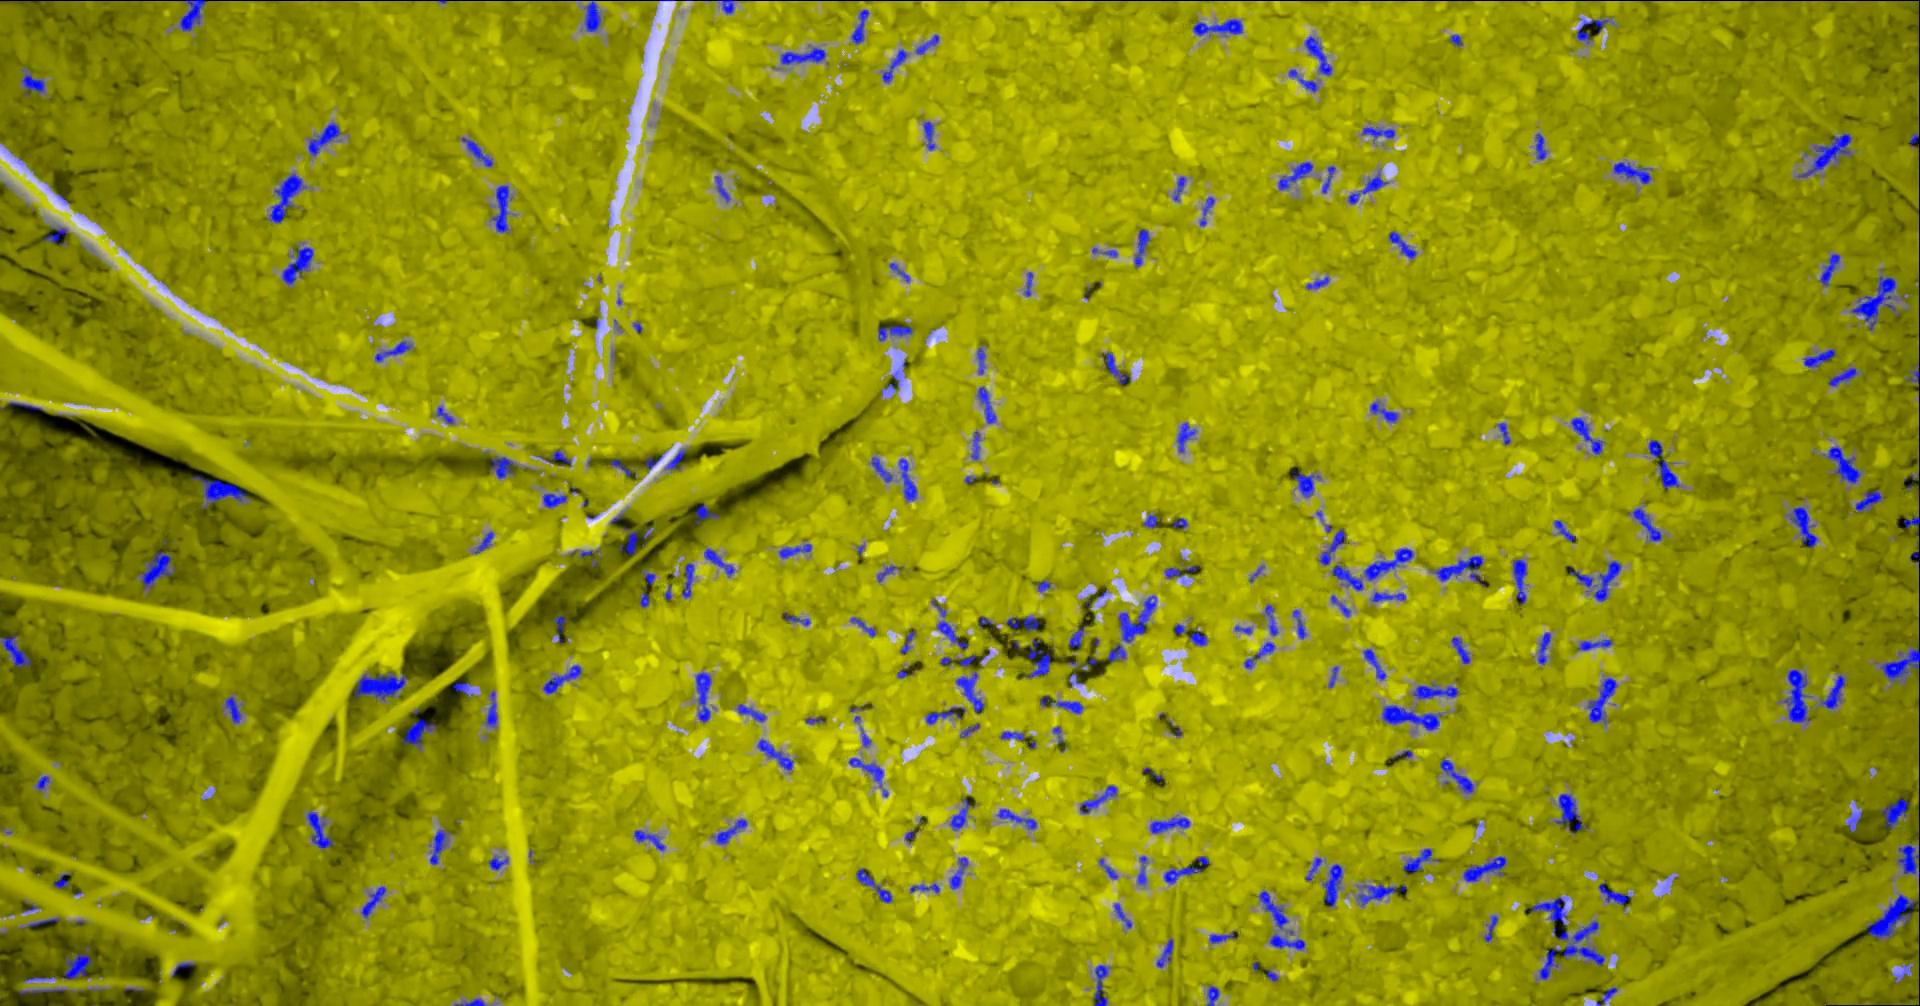ant: (1540, 920, 1606, 979), (1851, 276, 1901, 330), (1799, 132, 1853, 177), (1868, 893, 1920, 937), (270, 173, 307, 224), (193, 475, 249, 508), (1120, 594, 1158, 641), (933, 600, 970, 648), (1432, 555, 1487, 586), (1365, 547, 1415, 580), (1650, 439, 1681, 490), (356, 671, 409, 700), (1383, 705, 1443, 730), (1882, 641, 1920, 681), (1823, 445, 1862, 483), (141, 549, 177, 589), (1785, 669, 1812, 721), (1589, 677, 1618, 724), (1349, 171, 1389, 203), (1572, 417, 1606, 453), (1164, 856, 1210, 883), (858, 868, 894, 902), (1556, 793, 1589, 829), (283, 246, 315, 285), (1441, 758, 1476, 793), (1790, 506, 1818, 547), (1526, 895, 1568, 923), (1260, 890, 1290, 929), (543, 664, 583, 694), (1595, 560, 1623, 601), (957, 671, 985, 711), (1305, 36, 1333, 75), (1465, 856, 1509, 882), (1357, 883, 1408, 904), (309, 122, 342, 155), (759, 739, 795, 770), (1, 633, 33, 666), (404, 718, 437, 749), (850, 757, 884, 788), (1081, 785, 1117, 813), (309, 810, 335, 848), (1279, 161, 1314, 189), (1634, 507, 1663, 540), (1882, 796, 1911, 829), (63, 946, 93, 979), (493, 185, 513, 232), (1027, 638, 1051, 677), (1321, 528, 1347, 564), (1194, 18, 1244, 36), (712, 818, 748, 843), (463, 137, 494, 166), (1291, 467, 1322, 497), (705, 547, 737, 575), (182, 0, 210, 30), (998, 808, 1037, 829), (1898, 837, 1920, 876), (1244, 641, 1276, 668), (883, 50, 908, 83), (1106, 351, 1131, 384), (1822, 674, 1848, 708), (951, 796, 977, 829), (1324, 862, 1343, 906), (1615, 161, 1652, 183), (430, 829, 453, 864), (1390, 230, 1418, 258), (1041, 695, 1084, 713), (1578, 19, 1610, 43), (1333, 565, 1365, 589), (697, 672, 712, 721), (376, 340, 413, 361), (900, 459, 918, 500), (363, 887, 387, 917), (782, 47, 827, 64), (1600, 882, 1632, 904), (1404, 848, 1432, 874), (979, 386, 998, 423), (927, 706, 966, 724), (1415, 683, 1460, 699), (1365, 648, 1387, 680), (1150, 817, 1191, 833), (1095, 964, 1111, 1005), (1290, 69, 1319, 91), (1821, 253, 1841, 285), (1570, 565, 1595, 591), (635, 829, 667, 850), (1514, 559, 1528, 605), (489, 456, 518, 478), (1804, 348, 1837, 367), (1371, 400, 1399, 422), (1857, 489, 1884, 511), (641, 568, 657, 607), (1178, 422, 1197, 452), (695, 503, 721, 525), (853, 9, 870, 43), (951, 856, 969, 888), (1830, 367, 1859, 386), (739, 702, 768, 721), (872, 456, 894, 481), (879, 325, 914, 340), (1137, 227, 1150, 265), (621, 526, 640, 554), (23, 72, 46, 95), (1271, 934, 1305, 949), (585, 0, 602, 30), (780, 542, 813, 558), (1008, 616, 1040, 631), (852, 617, 877, 636), (1158, 937, 1175, 967), (1453, 636, 1470, 663), (226, 696, 244, 723), (917, 34, 940, 55), (44, 227, 70, 245), (612, 459, 637, 476), (1115, 903, 1133, 929), (1201, 196, 1217, 225), (668, 448, 688, 470), (1556, 520, 1576, 541), (1332, 594, 1352, 616), (1363, 126, 1396, 138), (476, 531, 495, 553), (1100, 857, 1119, 879), (1294, 608, 1308, 638), (555, 614, 569, 643), (716, 175, 731, 202), (1166, 565, 1201, 577), (1578, 639, 1614, 650), (1539, 633, 1552, 664), (683, 563, 695, 597), (1323, 165, 1337, 193), (1266, 605, 1279, 635), (1597, 987, 1619, 1005), (1307, 857, 1323, 880), (547, 448, 571, 464), (891, 262, 910, 281), (1371, 591, 1407, 601), (488, 691, 498, 727), (25, 917, 61, 927), (879, 565, 900, 582), (783, 612, 811, 625), (1070, 621, 1084, 647), (1211, 930, 1239, 942), (1109, 643, 1128, 661), (1486, 915, 1498, 941), (543, 493, 568, 507), (924, 121, 936, 150), (1849, 810, 1864, 832), (1498, 422, 1512, 445), (902, 630, 916, 653), (173, 962, 196, 976), (9, 401, 44, 410), (1139, 855, 1149, 885), (1175, 177, 1187, 201), (20, 988, 69, 995), (437, 406, 455, 423), (582, 550, 599, 567), (1537, 133, 1548, 159), (1307, 276, 1330, 288), (455, 681, 474, 696), (490, 855, 509, 870), (971, 431, 982, 459), (961, 723, 982, 737), (1208, 984, 1222, 1005), (1909, 362, 1920, 386), (646, 453, 664, 469), (1190, 630, 1208, 645), (55, 873, 72, 888), (910, 883, 941, 892), (717, 0, 738, 13), (1001, 730, 1026, 741), (455, 998, 488, 1005), (978, 347, 985, 373), (1911, 539, 1920, 561), (959, 654, 977, 666), (1026, 271, 1034, 296), (1145, 514, 1161, 527), (1905, 514, 1920, 527), (37, 775, 50, 790), (1175, 517, 1189, 528), (1039, 580, 1051, 591), (1451, 34, 1463, 44), (1, 0, 55, 1)
